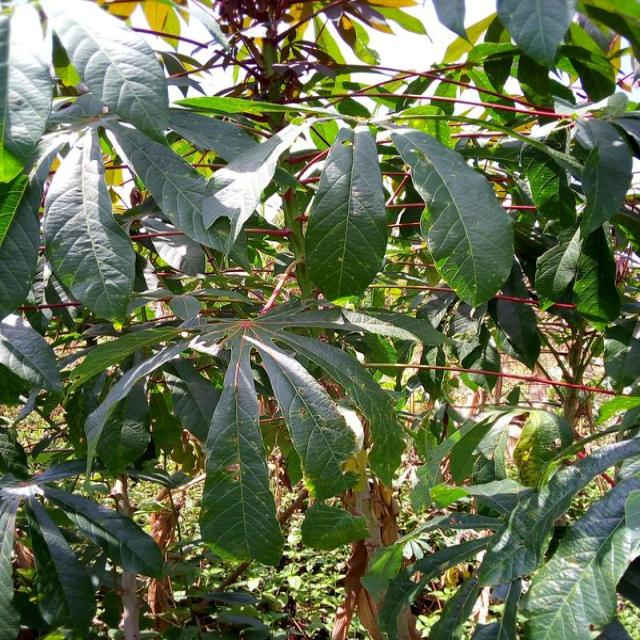cassava leaf: (390, 126, 515, 308), (198, 332, 284, 567), (42, 128, 136, 323), (302, 125, 388, 301)
